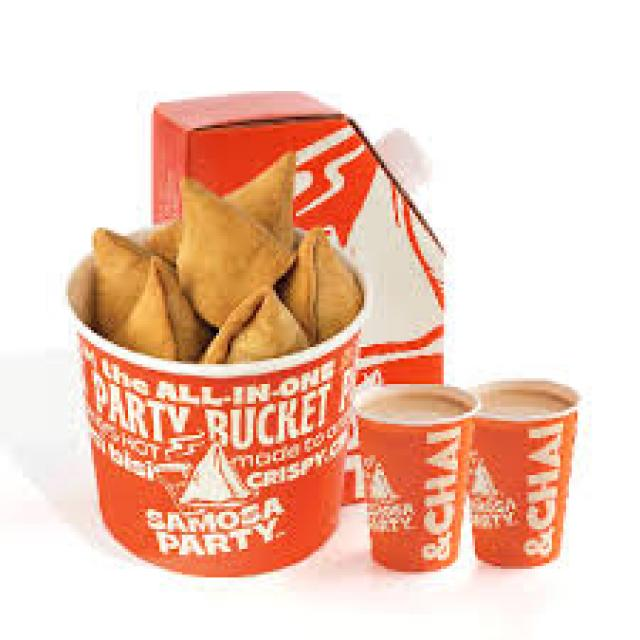SAMOSA: (352, 388, 475, 570), (177, 176, 293, 333), (217, 157, 296, 252), (91, 225, 153, 345), (203, 285, 302, 360), (317, 235, 362, 337), (476, 389, 576, 424)
